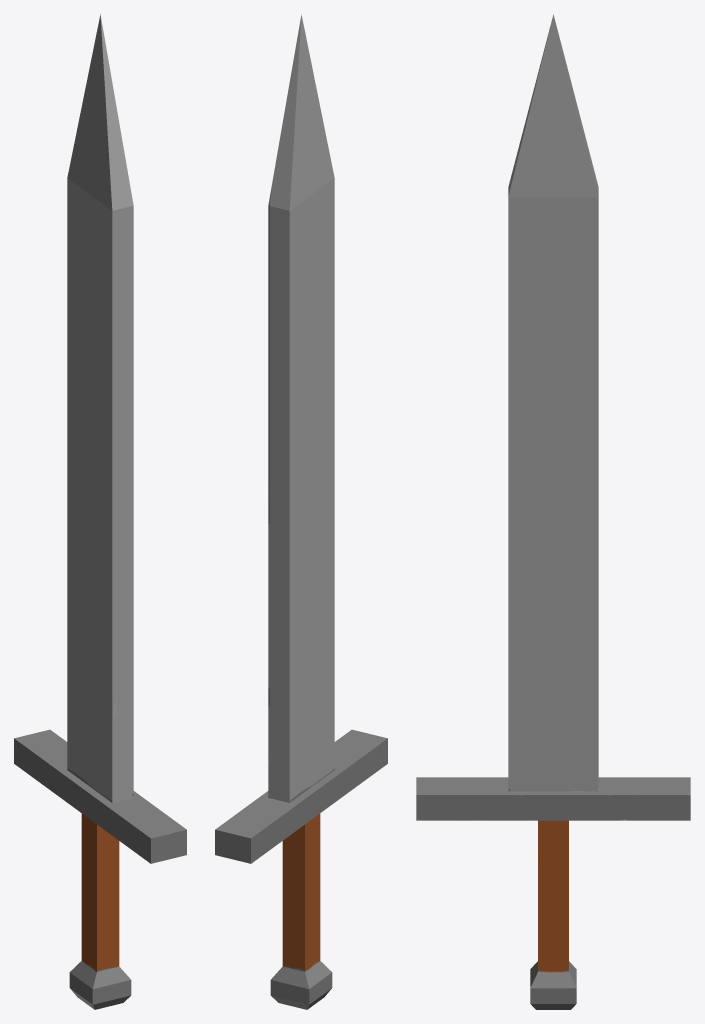
The model's file is sword.fbx.
3 renders of one model, left to right at view 1: azimuth 30°, elevation 25°; view 2: azimuth 150°, elevation 25°; view 3: azimuth 270°, elevation 25°, orthographic.
Visible parts, largest first — view 1: Cube; view 2: Cube; view 3: Cube.
Boxes of the visible parts, x1=… form: Cube: x1=14, y1=14, x2=186, y2=1009; Cube: x1=215, y1=14, x2=387, y2=1009; Cube: x1=416, y1=14, x2=690, y2=1009.
Bounding box in the file's own units: 10.69 × 261 × 65.7.
Materials: 1 (1 with a texture image).
